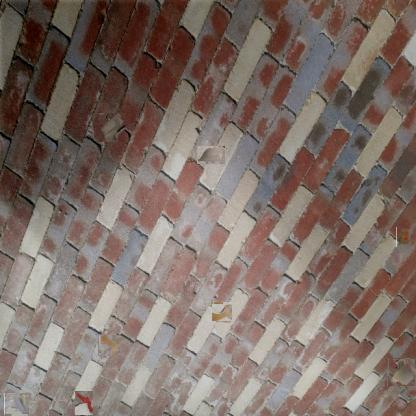dirty: (388, 358, 416, 386), (99, 114, 125, 144), (4, 394, 29, 416), (197, 146, 225, 164), (75, 391, 93, 415), (396, 227, 411, 247)
liquid: (98, 334, 120, 356), (213, 303, 232, 322)
